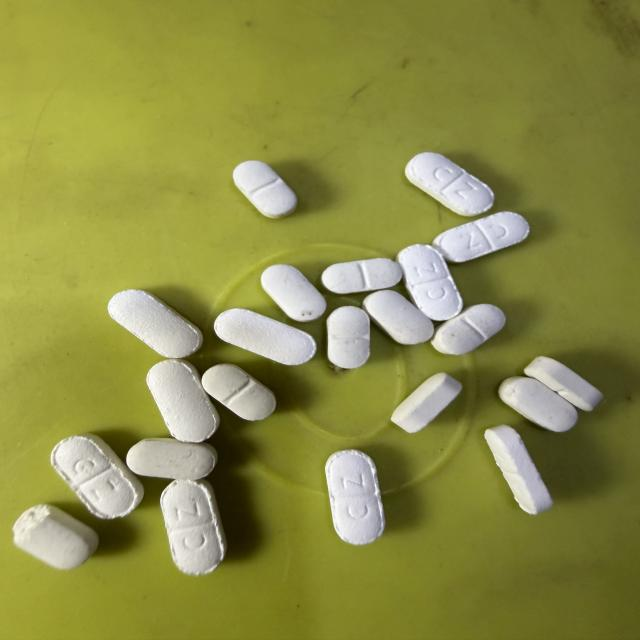pill: (51, 434, 143, 518), (160, 480, 227, 575), (108, 290, 202, 357), (485, 425, 552, 514), (147, 360, 219, 442), (214, 309, 316, 365), (326, 450, 385, 544), (406, 153, 494, 215), (13, 505, 98, 569), (397, 245, 463, 320), (433, 212, 529, 262), (499, 377, 577, 432), (391, 373, 462, 432), (525, 357, 602, 410), (203, 364, 275, 420), (363, 290, 433, 344), (127, 438, 217, 479), (432, 304, 505, 354), (233, 161, 297, 218), (261, 265, 326, 321), (322, 258, 401, 294), (327, 306, 370, 369)
